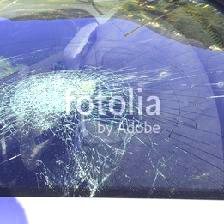glass_shatter: (1, 55, 190, 197)
